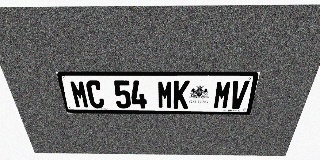4: (130, 80, 147, 108)
5: (113, 80, 132, 108)
C: (85, 80, 105, 108)
K: (173, 80, 190, 109)
M: (69, 80, 90, 108), (213, 80, 233, 109), (157, 80, 173, 109)
V: (228, 80, 250, 109)
